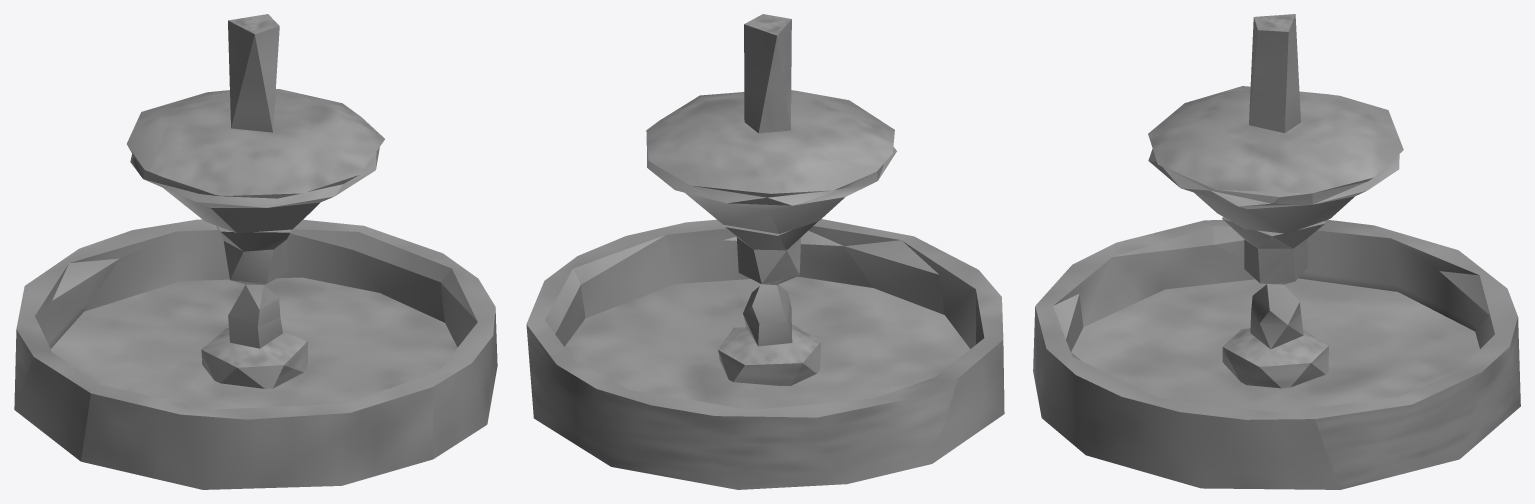
The model's file is ChafarizLOD1.fbx.
3 views of the same model, side by side, from view 1: azimuth 30°, elevation 25°; view 2: azimuth 150°, elevation 25°; view 3: azimuth 270°, elevation 25° (orthographic).
Parts seen in each view (by area): view 1: ChafarizLOD1; view 2: ChafarizLOD1; view 3: ChafarizLOD1.
Boxes of the visible parts, x1,y1,x2,y2 form: ChafarizLOD1: (14, 14, 497, 489); ChafarizLOD1: (526, 14, 1004, 489); ChafarizLOD1: (1033, 14, 1520, 489).
Bounding box in the file's own units: 349 × 295 × 356.
